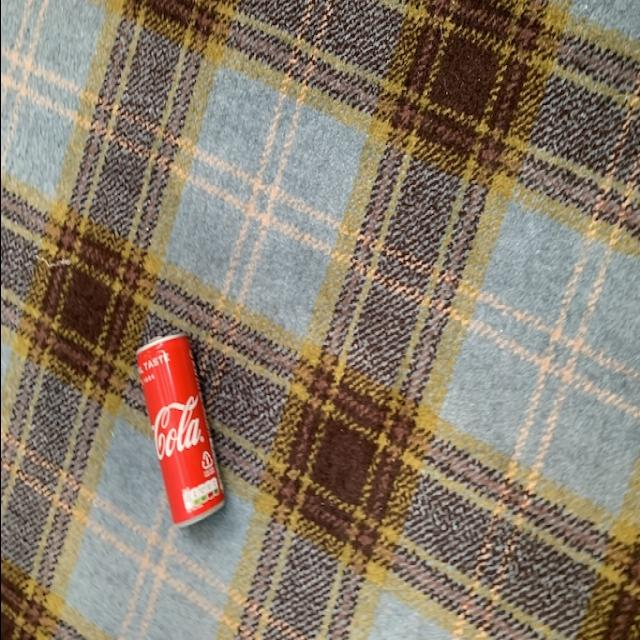Aluminum Can: (132, 325, 226, 534)
